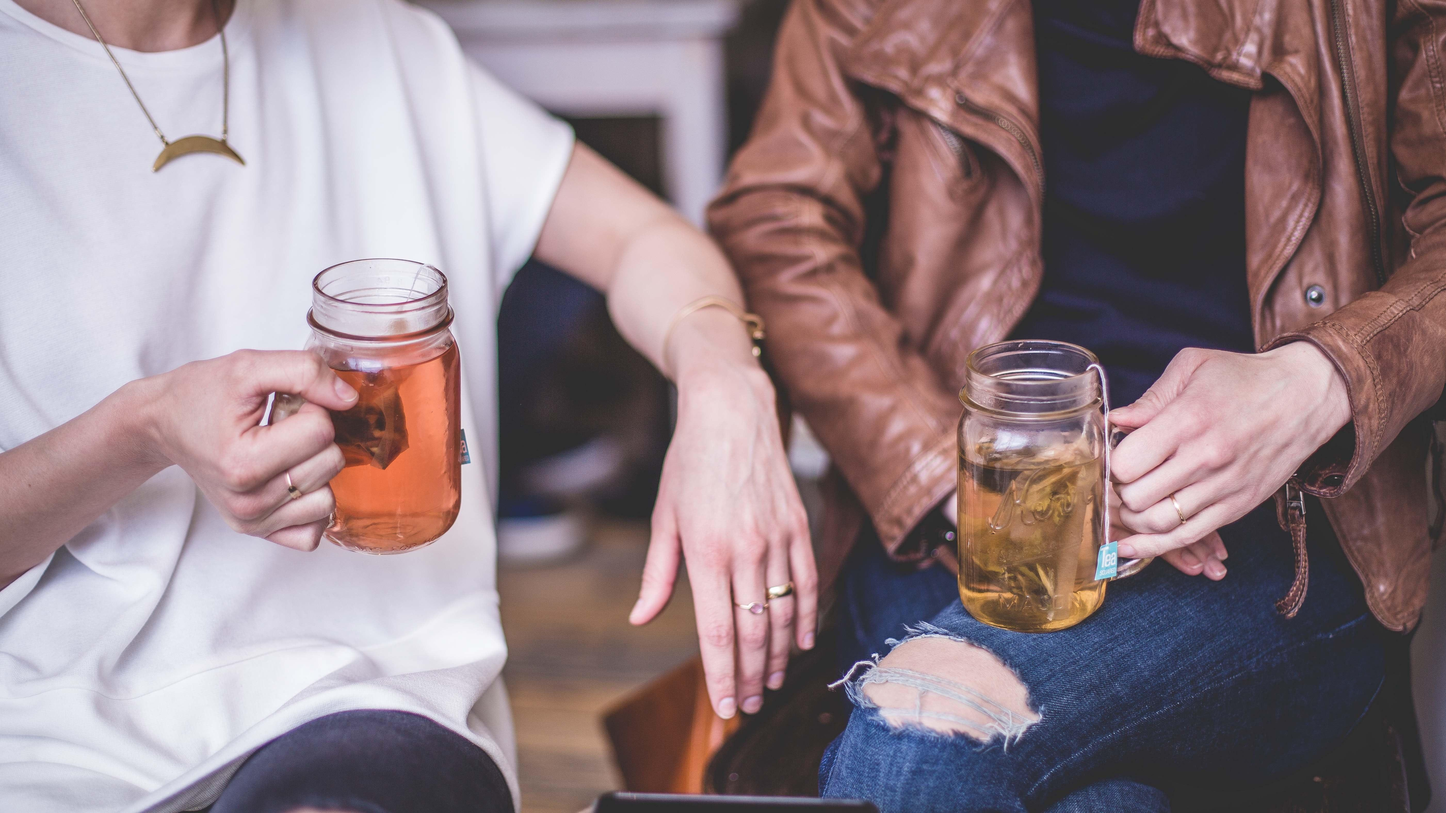glass-mug: (955, 333, 1162, 635), (266, 252, 465, 558)
